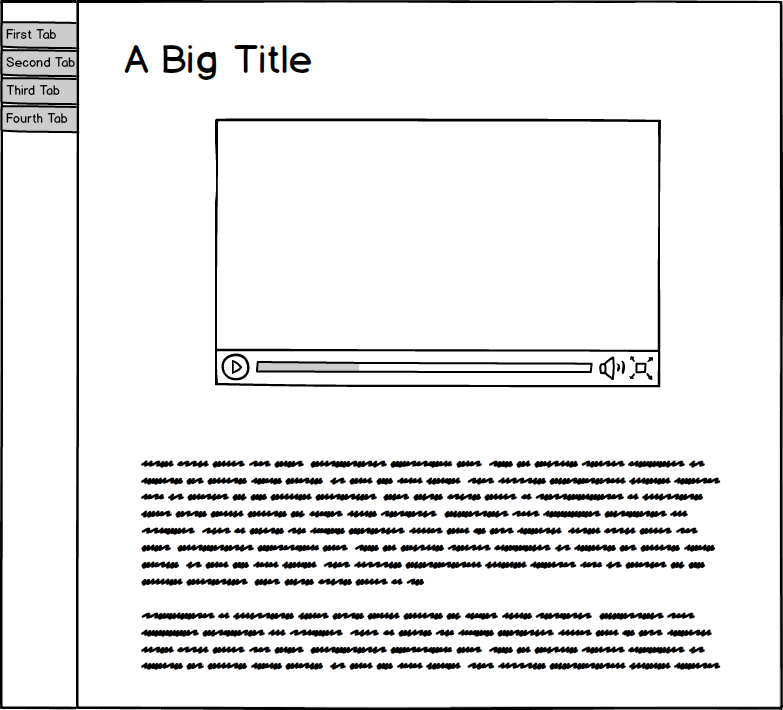h1: (113, 32, 323, 87)
p: (131, 454, 728, 681)
sidebar: (1, 21, 85, 142)
video: (209, 113, 668, 395)
